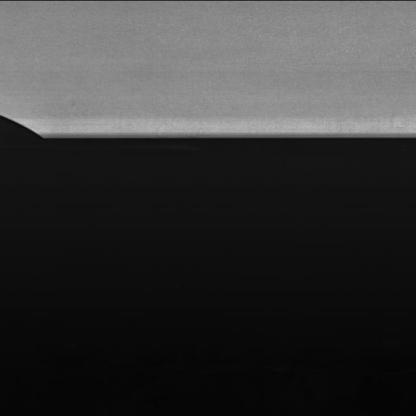crescent_gap: (0, 106, 70, 145)
